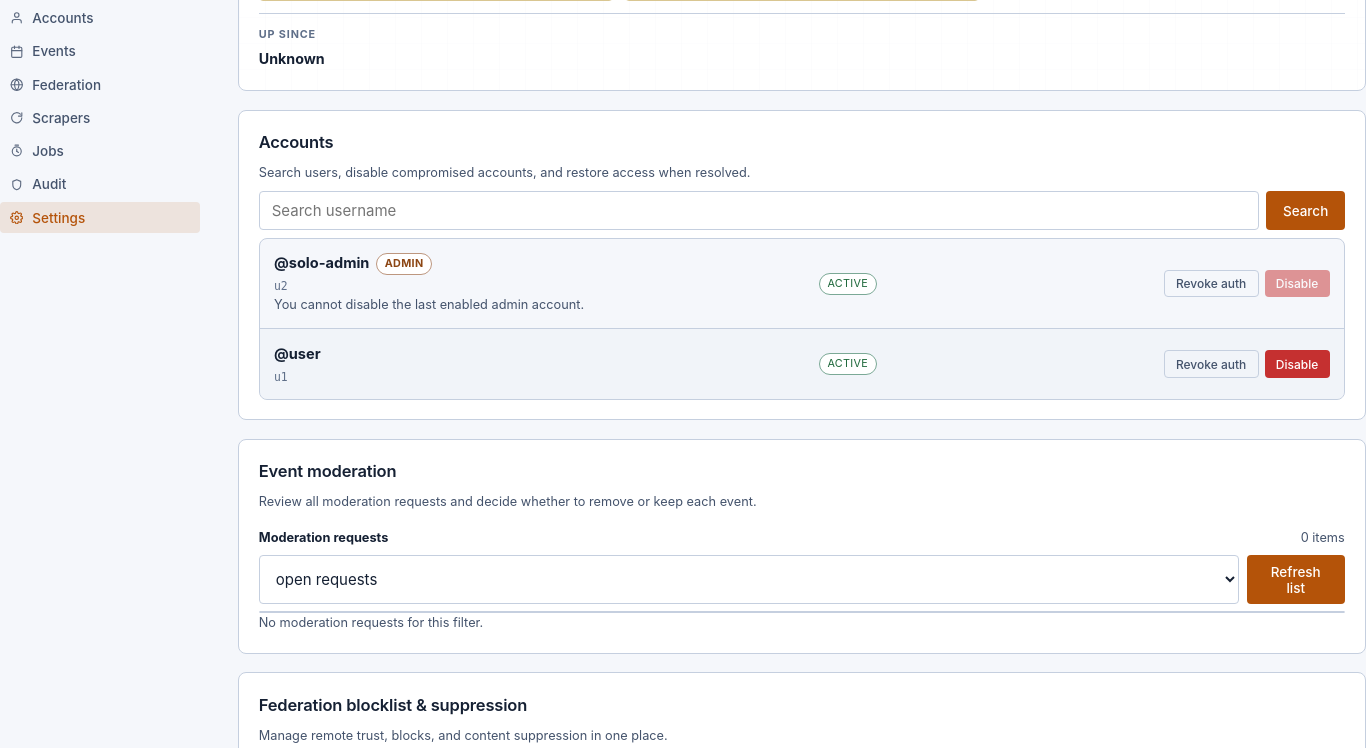
AdminPage account disable guards › disables the last enabled admin action without blocking non-admin disables
The image size is (1366, 748).
(page scrolled)
Expected: the list item "You cannot disable the last enabled admin account." is shown, [274, 297, 584, 312]
Expected: the button "Disable" in the row of "solo-admin" is disabled, [1264, 270, 1330, 297]
Step 1. Click the button "Disable" in the row of "u1" → [1297, 364], box [1264, 350, 1330, 378]
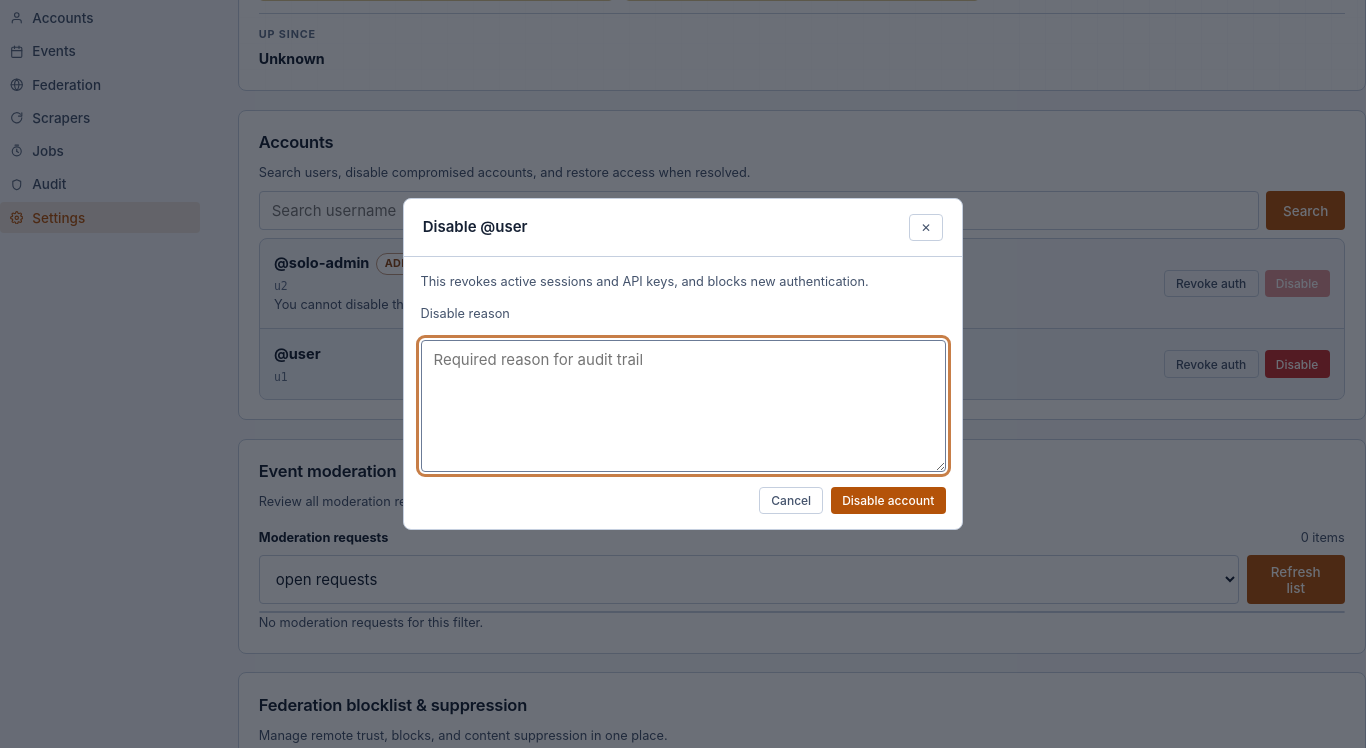
Expected: the heading "Disable @user" is shown, [423, 215, 528, 239]
